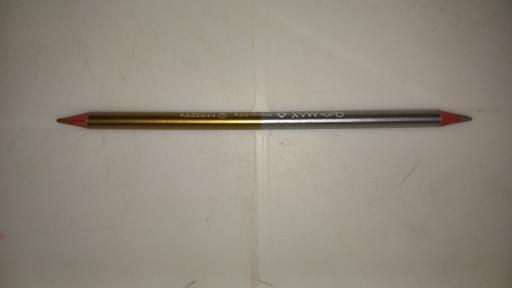Pencil: (57, 111, 473, 130)
